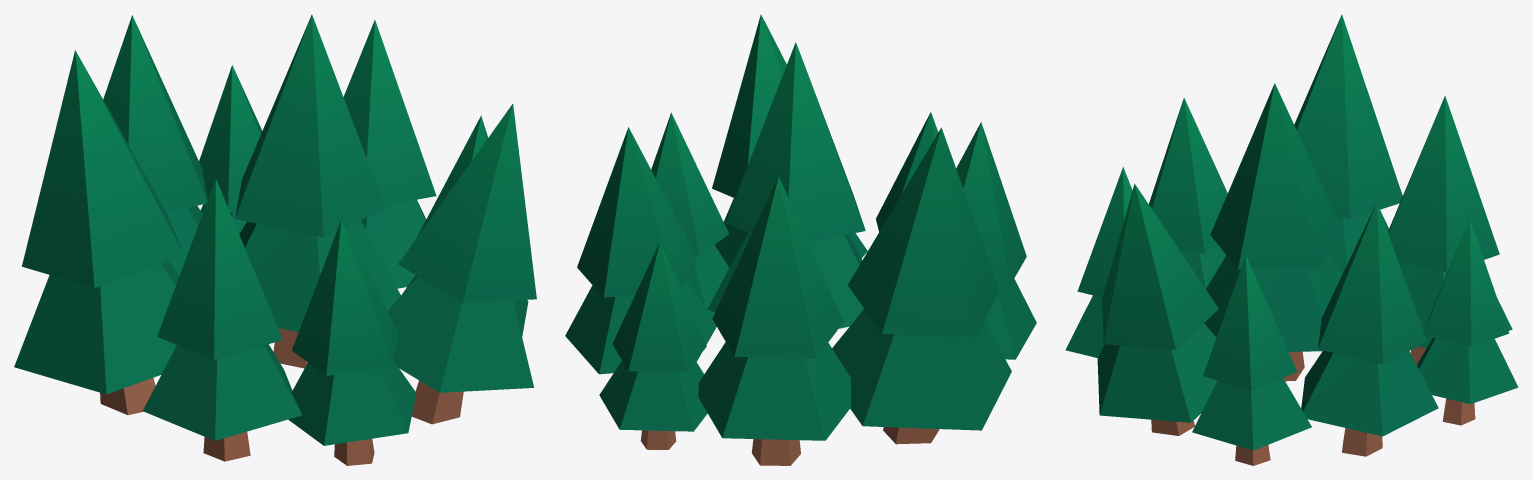
Rendered from trees_A_small.gltf.
The picture shows the model from 3 angles, left to right: view 1: azimuth 30°, elevation 25°; view 2: azimuth 150°, elevation 25°; view 3: azimuth 270°, elevation 25°; orthographic projection. The views are drawn at different scales.
Parts seen in each view (by area): view 1: trees_A_small; view 2: trees_A_small; view 3: trees_A_small.
Part boxes in pixels (x1=…): trees_A_small: x1=14, y1=14, x2=536, y2=465; trees_A_small: x1=565, y1=14, x2=1036, y2=465; trees_A_small: x1=1065, y1=14, x2=1518, y2=465.
Size of the model in its own units: 1.43 by 1.11 by 1.44.
Materials: 1 (1 with a texture image).
